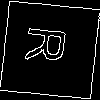R: (25, 25, 77, 66)
